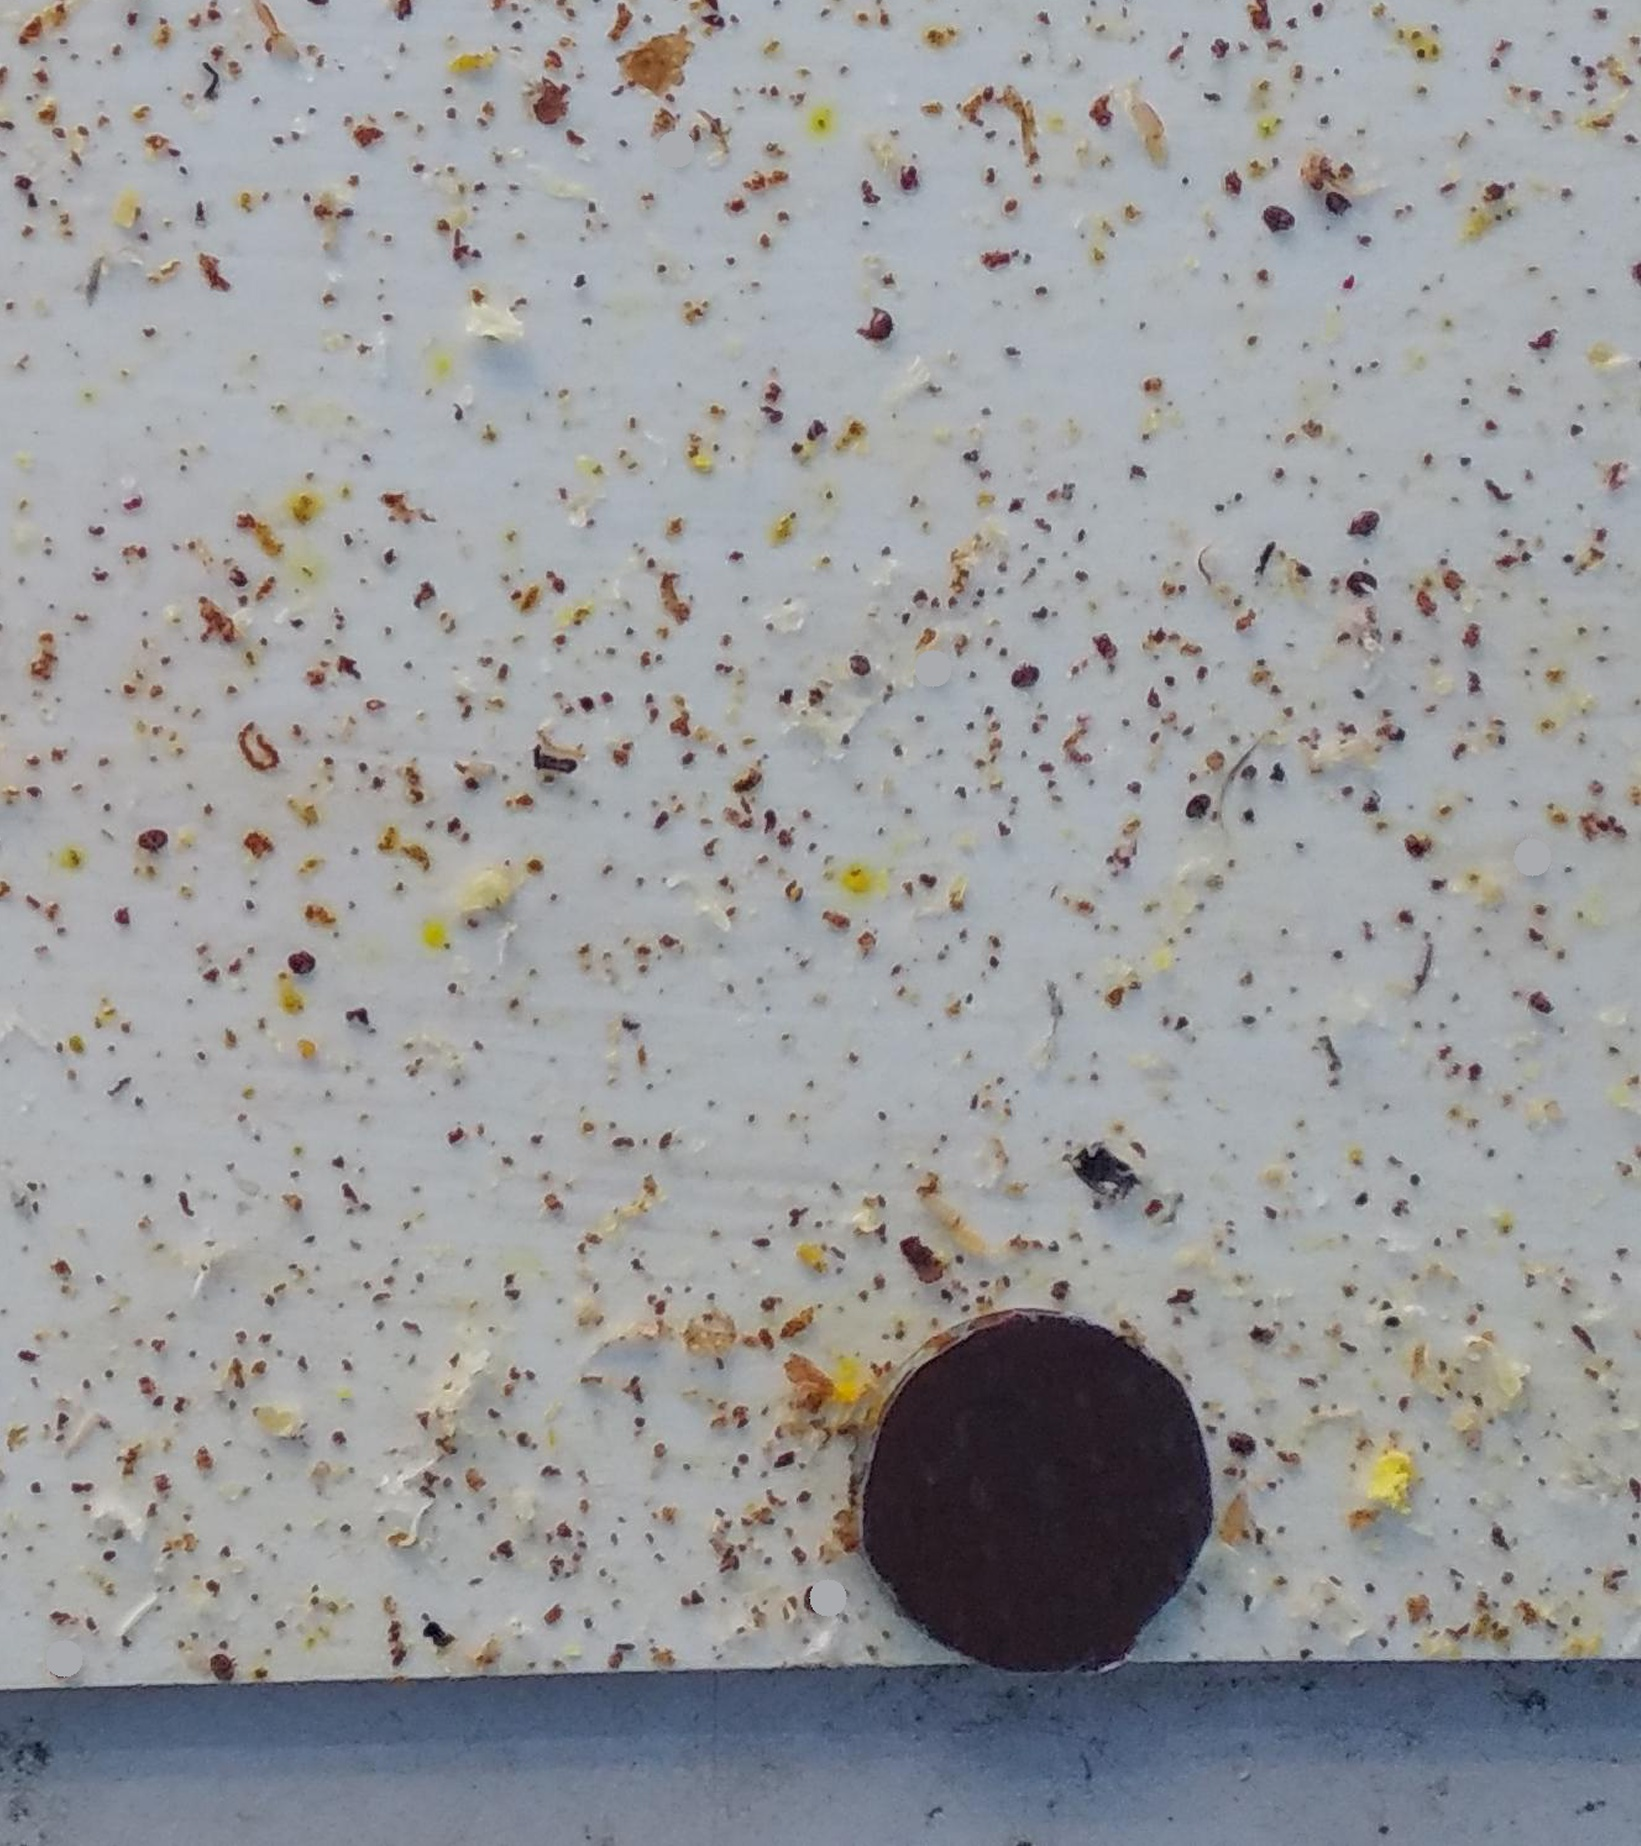Varroa: (1350, 507, 1380, 539), (846, 651, 874, 681), (1011, 658, 1042, 685), (1231, 1431, 1258, 1459), (139, 827, 166, 854), (795, 1581, 820, 1610), (1178, 791, 1204, 818), (282, 948, 309, 971), (1270, 211, 1293, 238), (871, 322, 892, 347), (1327, 193, 1346, 217), (1351, 566, 1369, 589), (217, 1653, 236, 1669)
